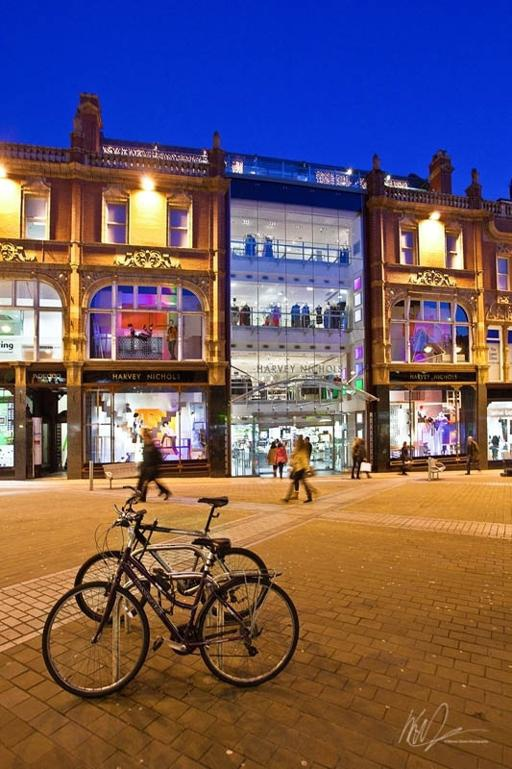non-vehicle: (41, 508, 300, 697), (72, 484, 273, 626)
